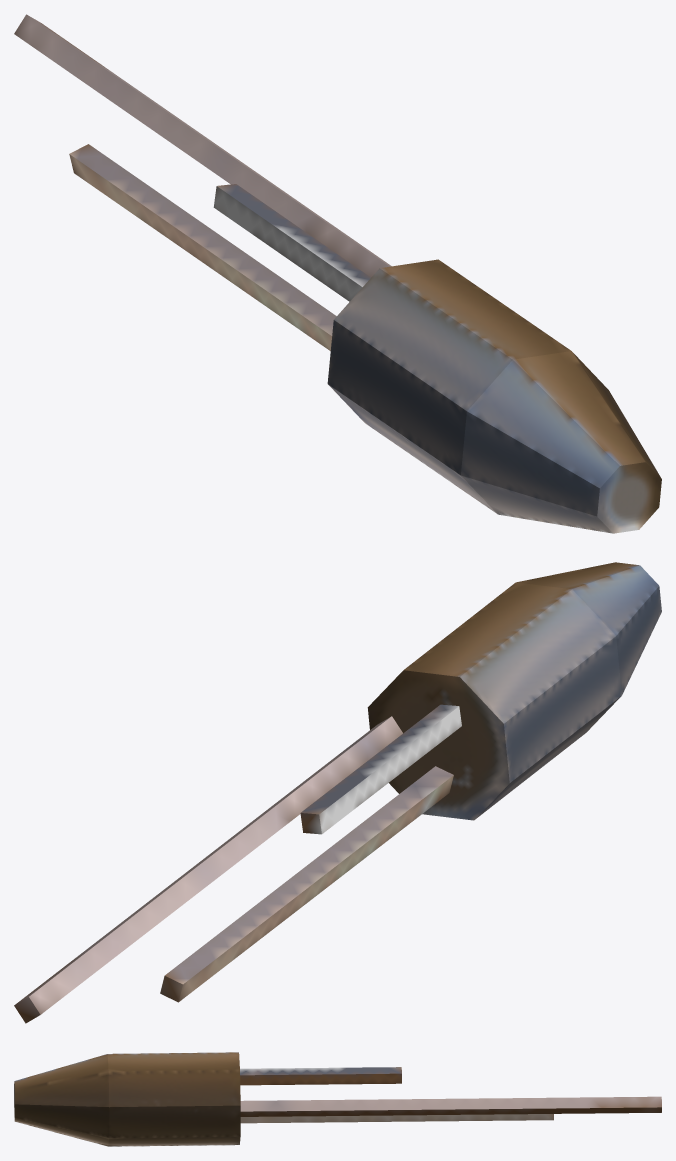
3 renders of one model, top to bottom at view 1: azimuth 30°, elevation 25°; view 2: azimuth 150°, elevation 25°; view 3: azimuth 270°, elevation 25°, orthographic. The views are drawn at different scales.
Parts seen in each view (by area): view 1: Bala_Cylinder.003, Estela_1_Cube.006, Estela_3_Cube.008, Estela_2_Cube.007; view 2: Bala_Cylinder.003, Estela_1_Cube.006, Estela_3_Cube.008, Estela_2_Cube.007; view 3: Bala_Cylinder.003, Estela_1_Cube.006, Estela_2_Cube.007, Estela_3_Cube.008.
Part boxes in pixels (x1,y1,x2,y2): Bala_Cylinder.003: [327, 259, 661, 533]; Estela_1_Cube.006: [14, 14, 391, 277]; Estela_3_Cube.008: [69, 144, 336, 350]; Estela_2_Cube.007: [213, 184, 370, 301]; Bala_Cylinder.003: [367, 562, 661, 820]; Estela_1_Cube.006: [14, 716, 402, 1023]; Estela_3_Cube.008: [160, 766, 453, 1002]; Estela_2_Cube.007: [300, 704, 461, 834]; Bala_Cylinder.003: [14, 1052, 240, 1146]; Estela_1_Cube.006: [240, 1096, 661, 1116]; Estela_2_Cube.007: [240, 1067, 401, 1085]; Estela_3_Cube.008: [240, 1114, 553, 1123].
Size of what is drawn, in the model's own units: 0.2798 by 0.2689 by 1.94.
